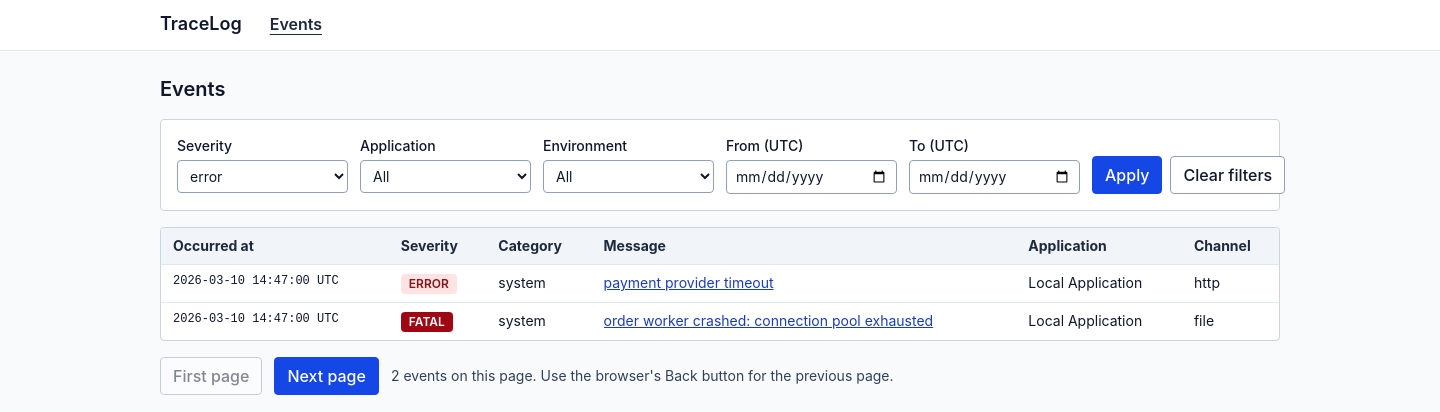
Test case: Events screen › pages forward with the cursor, back with history, and to the first page
Later steps or results of the test are not shown.
expect the table is shown: met, box [161,228,1279,340]
expect the button "First page" is disabled: met, box [160,357,262,395]
Click the button "Next page": (327, 376) [274,357,379,395]
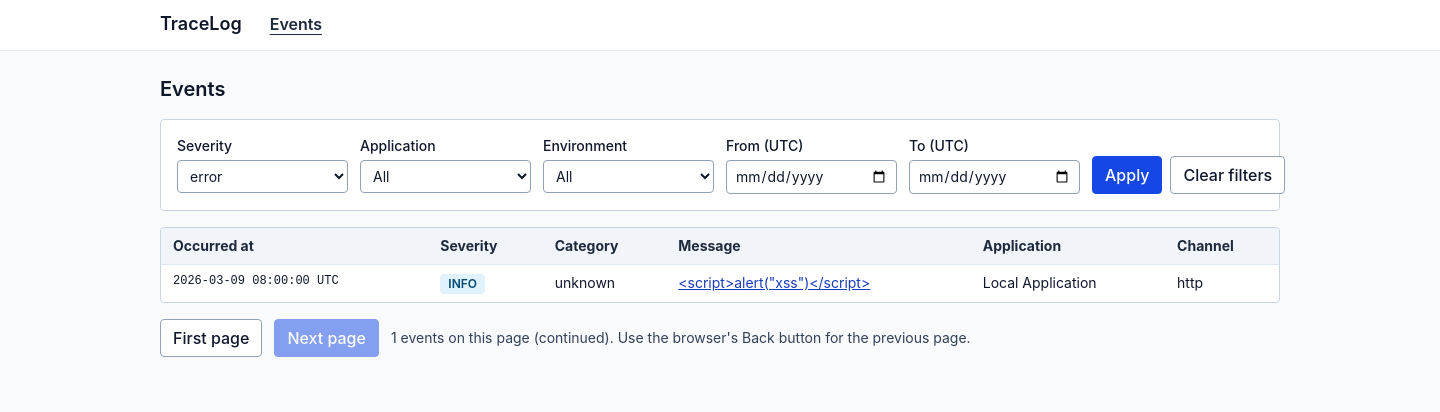
expect the link "<script>alert(\"xss\")</script>" is shown: met, box [678,274,870,291]
expect the button "Next page" is disabled: met, box [274,319,379,357]
